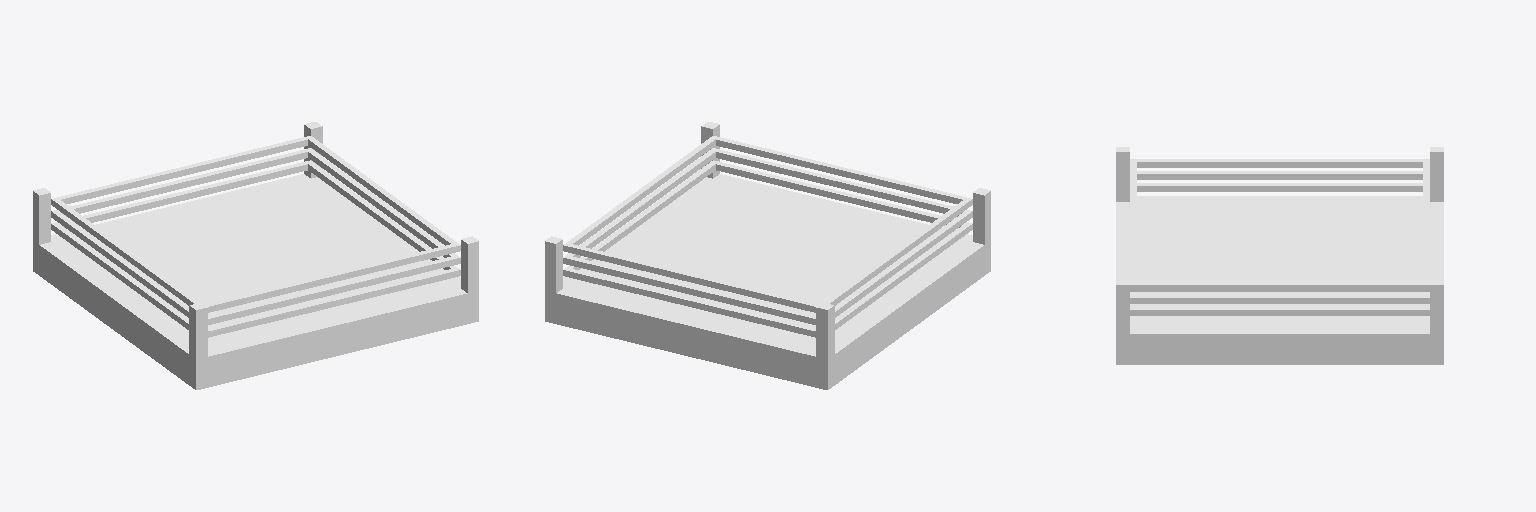
File: obj_boxingring.obj
3 renders of one model, left to right at view 1: azimuth 30°, elevation 25°; view 2: azimuth 150°, elevation 25°; view 3: azimuth 270°, elevation 25°, orthographic.
Size of the model in its own units: 48 by 13 by 48.